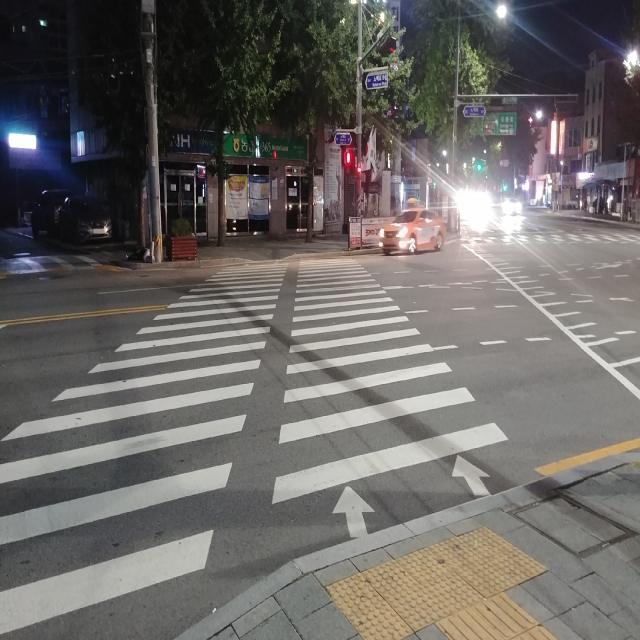빨간불: (344, 153, 354, 174)
횡단보도: (0, 255, 508, 634)
